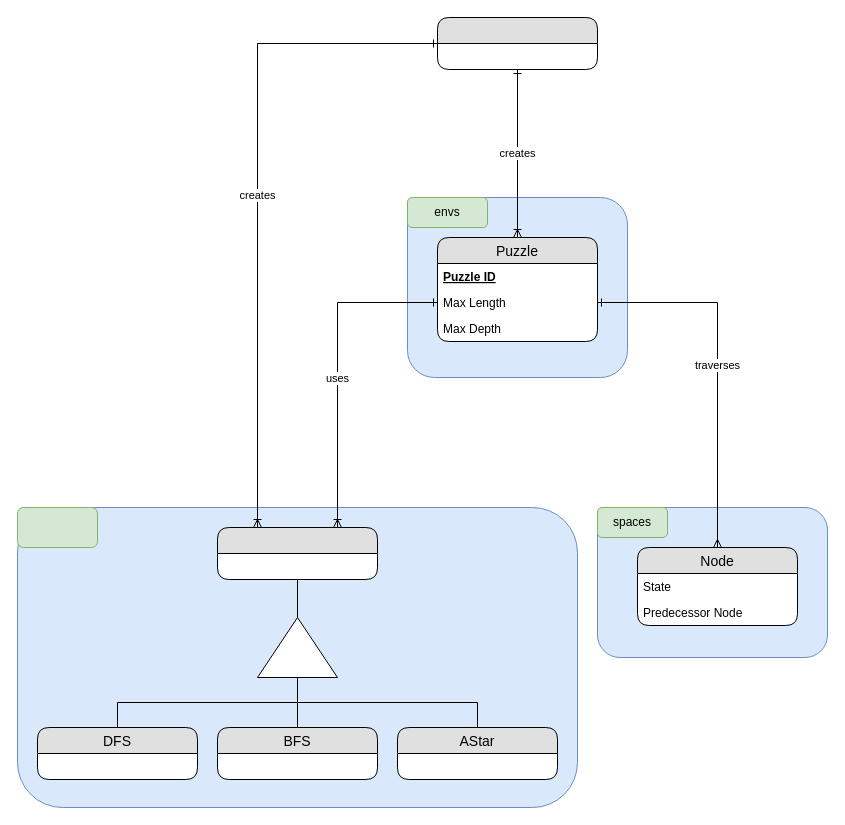
This 845x825 diagram has some shape labels left out. Each missing label, with the centre of its shape:
"Agent" belongs at pixel 297 553.
"agents" belongs at pixel 57 527.
"Indonesian Dot" belongs at pixel 517 43.
"IS A" belongs at pixel 297 647.
